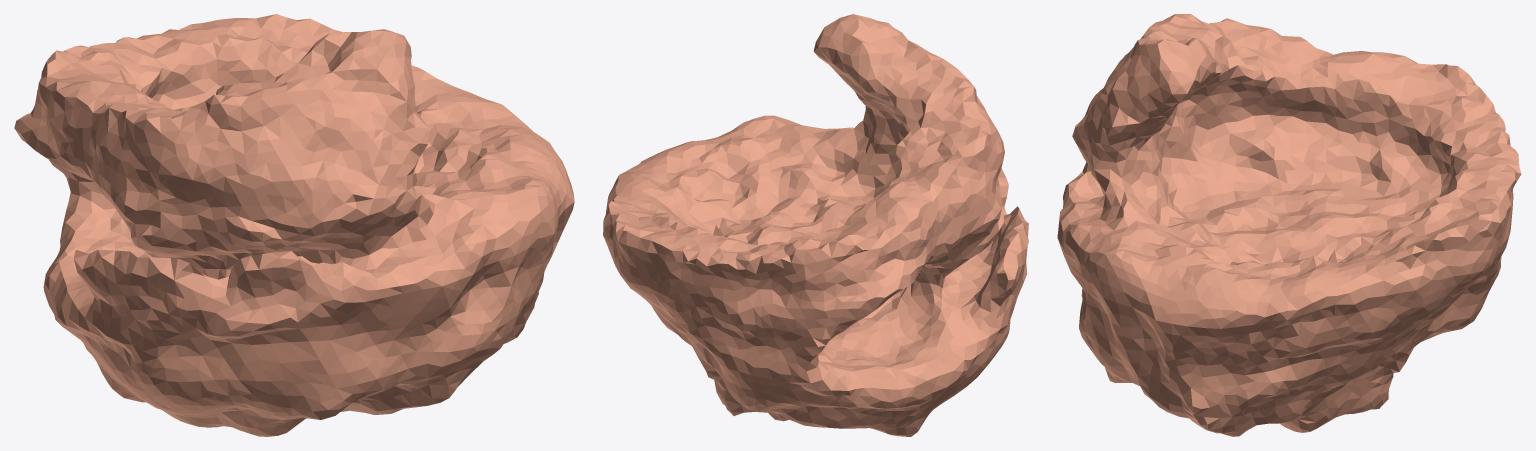
Rendered from island.fbx.
3 views of the same model, side by side, from view 1: azimuth 30°, elevation 25°; view 2: azimuth 150°, elevation 25°; view 3: azimuth 270°, elevation 25° (orthographic). The views are drawn at different scales.
Parts seen in each view (by area): view 1: Icosphere; view 2: Icosphere; view 3: Icosphere.
Part boxes in pixels (box(x1,y1,x2,y2)): Icosphere: box(14, 14, 574, 436); Icosphere: box(603, 14, 1028, 436); Icosphere: box(1057, 14, 1521, 436).
Size of the model in its own units: 2282 by 2019 by 2225.
